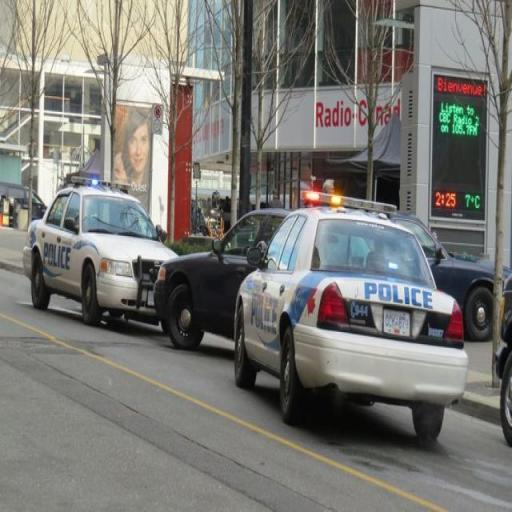Ambulance: (230, 187, 471, 444), (21, 169, 155, 332), (154, 195, 236, 383)
